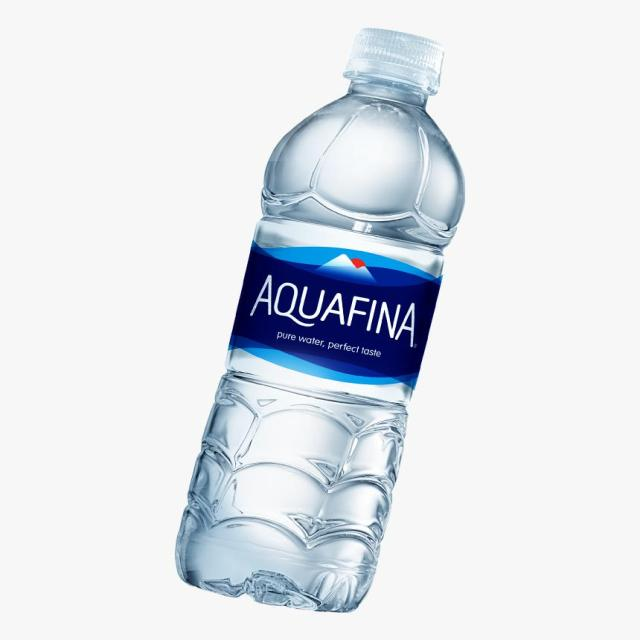bottle: (169, 22, 469, 614)
